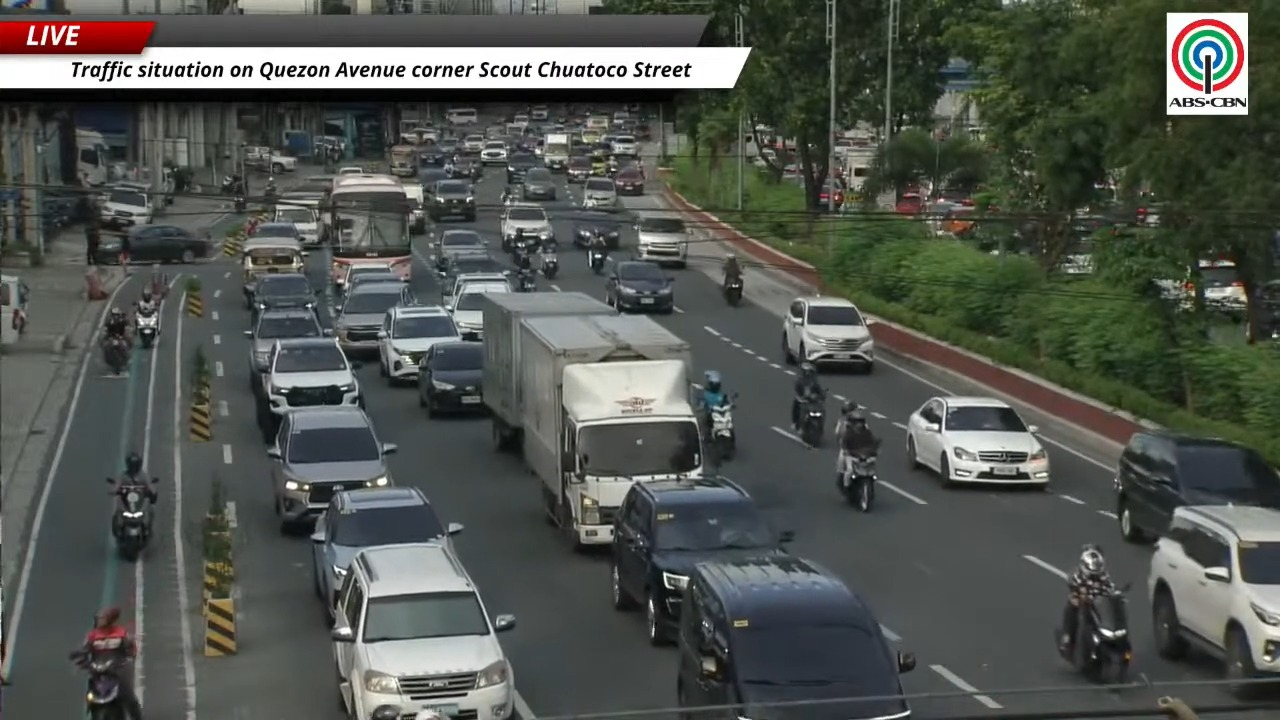bus: (327, 174, 412, 284)
car: (676, 554, 914, 719), (331, 541, 516, 719), (611, 477, 792, 644), (1148, 505, 1279, 695), (311, 486, 462, 618), (1114, 430, 1279, 542), (267, 407, 395, 531), (906, 397, 1049, 486), (256, 337, 362, 441), (782, 296, 874, 373), (244, 309, 323, 393), (379, 305, 459, 382), (334, 282, 415, 351), (419, 341, 484, 416), (448, 280, 512, 339), (605, 260, 674, 313), (128, 225, 212, 263), (252, 273, 315, 317), (99, 183, 158, 229), (635, 215, 687, 267), (442, 271, 513, 308), (500, 204, 553, 251), (441, 250, 506, 287), (432, 229, 487, 272), (273, 194, 318, 246), (572, 211, 622, 250), (429, 180, 476, 221), (336, 263, 390, 292), (402, 179, 426, 234), (345, 269, 402, 291), (418, 167, 451, 205), (248, 223, 303, 244), (521, 168, 556, 200), (581, 177, 617, 208), (506, 152, 540, 183), (445, 155, 482, 181), (614, 166, 644, 195), (566, 155, 591, 183), (418, 144, 448, 166), (480, 141, 508, 164), (589, 138, 612, 165), (461, 134, 486, 155), (337, 166, 365, 175)
motorcycle: (1055, 585, 1131, 684), (107, 478, 150, 561), (75, 656, 126, 719), (113, 488, 148, 561), (838, 454, 876, 512), (707, 399, 735, 461), (798, 397, 825, 447), (102, 335, 129, 375), (135, 307, 158, 348), (722, 278, 743, 306), (588, 247, 606, 274), (516, 269, 536, 292), (540, 254, 558, 279), (220, 175, 241, 194), (264, 179, 278, 204), (233, 193, 246, 213)
truck: (483, 293, 703, 546), (543, 133, 571, 172)
